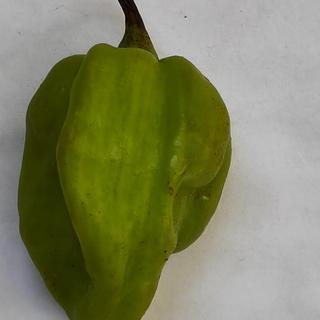Grade-A: (14, 40, 234, 317)
